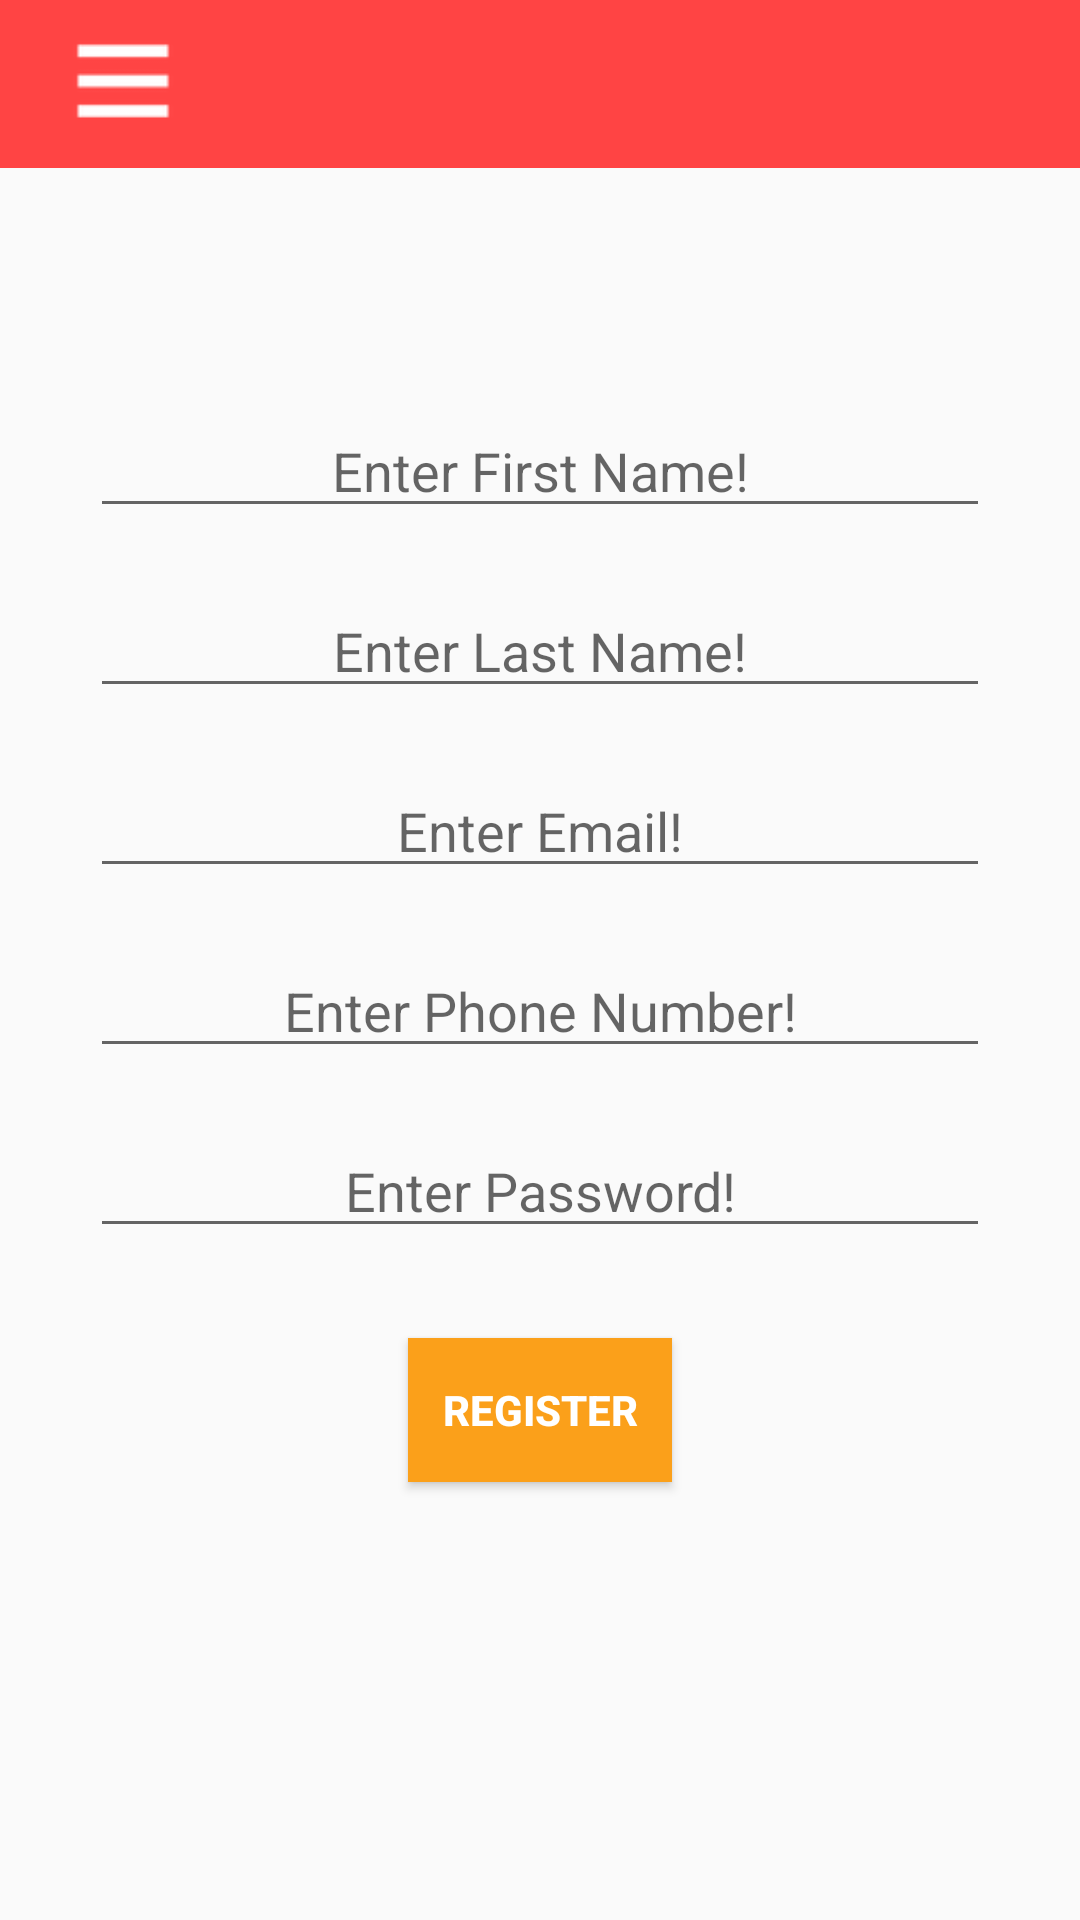

Screen size 1080*1920. Icon name, then its center in pixels as (x,y):
menu: (123,81)
